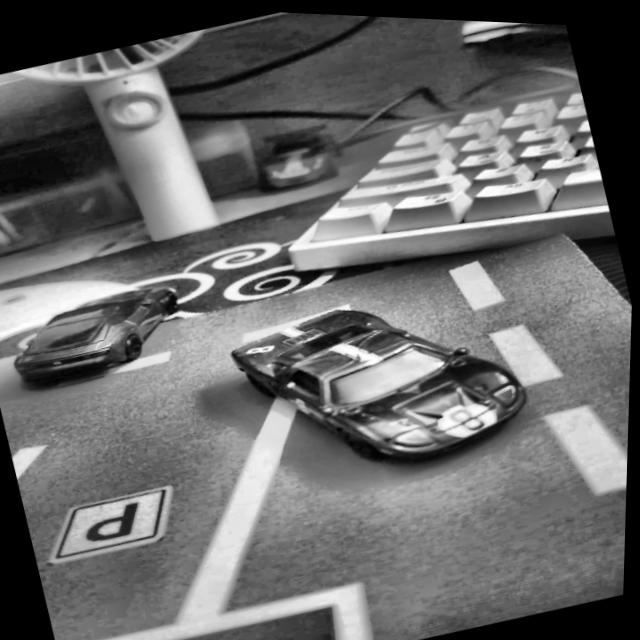car: (222, 258, 540, 500), (2, 273, 193, 392)
